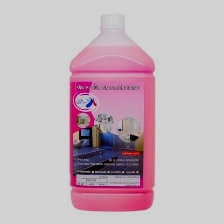cleaning_solution: (67, 8, 158, 214)
